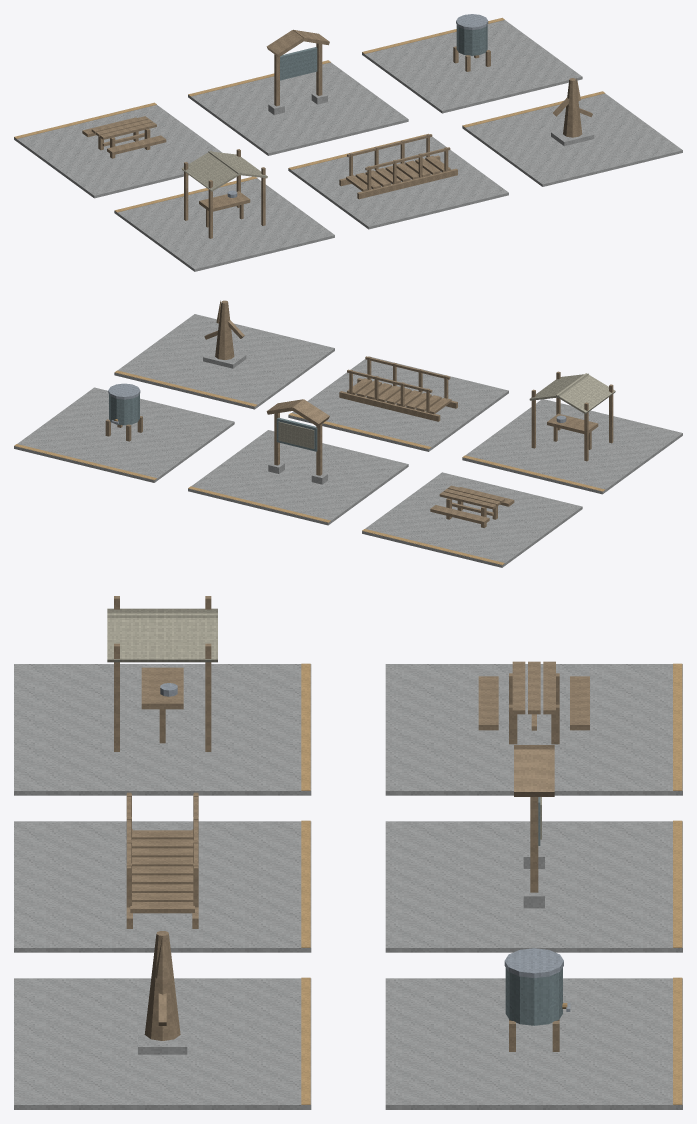
The model's file is level_blockout_kit_wld_02_p04.glb.
3 renders of one model, top to bottom at view 1: azimuth 30°, elevation 25°; view 2: azimuth 150°, elevation 25°; view 3: azimuth 270°, elevation 25°, orthographic. The views are drawn at different scales.
Visible parts, largest first — view 1: level_blockout_kit_wld_02_p04; view 2: level_blockout_kit_wld_02_p04; view 3: level_blockout_kit_wld_02_p04.
Boxes of the visible parts, x1,y1,x2,y2 form: level_blockout_kit_wld_02_p04: (14, 14, 682, 271); level_blockout_kit_wld_02_p04: (14, 300, 682, 567); level_blockout_kit_wld_02_p04: (14, 596, 682, 1109).
Bounding box in the file's own units: 19.65 × 2.91 × 12.6.
Materials: 7 (7 with a texture image).
